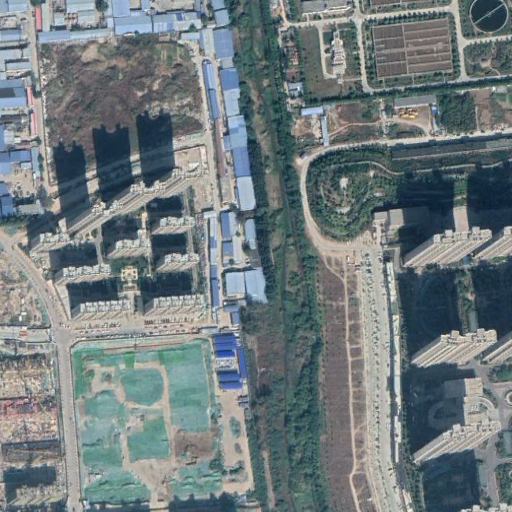cw: (69, 337, 251, 504)
